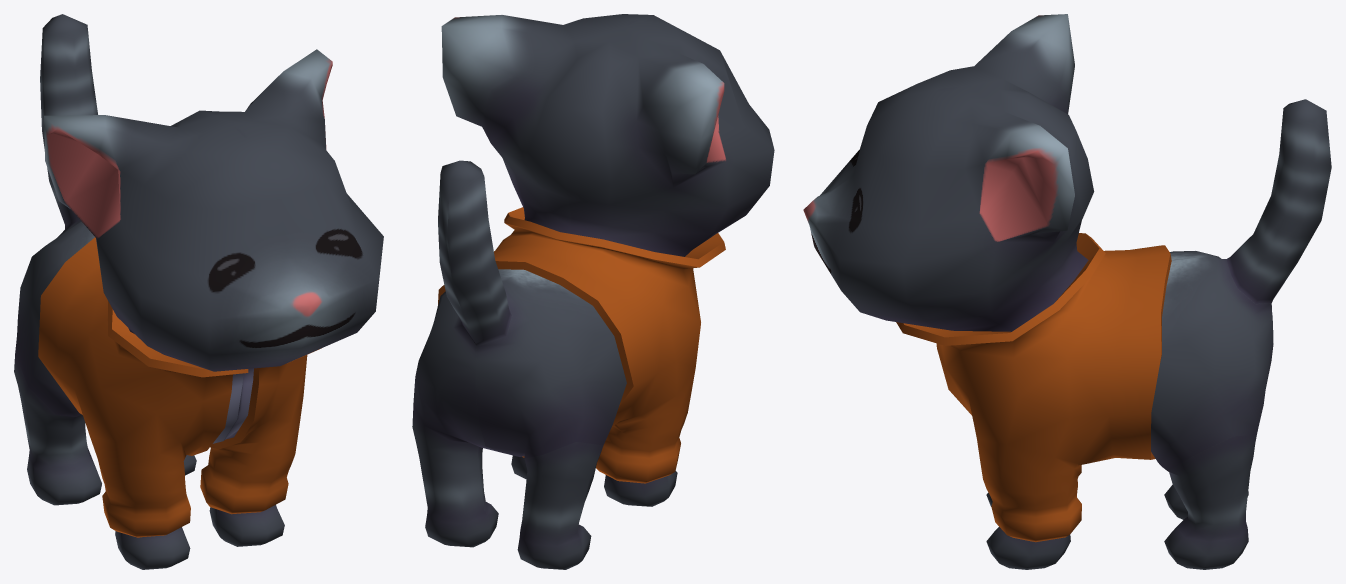
The model's file is Varsity Cat04.fbx.
3 renders of one model, left to right at view 1: azimuth 30°, elevation 25°; view 2: azimuth 150°, elevation 25°; view 3: azimuth 270°, elevation 25°, orthographic. The views are drawn at different scales.
Visible parts, largest first — view 1: Cat_Base003, Varsity_Cat_Jersey; view 2: Cat_Base003, Varsity_Cat_Jersey; view 3: Cat_Base003, Varsity_Cat_Jersey.
Boxes of the visible parts, <box> form: Cat_Base003: <box>14,14,383,569</box>; Varsity_Cat_Jersey: <box>38,237,321,537</box>; Cat_Base003: <box>412,14,774,569</box>; Varsity_Cat_Jersey: <box>438,207,725,483</box>; Cat_Base003: <box>803,14,1331,569</box>; Varsity_Cat_Jersey: <box>896,233,1171,542</box>.
Size of the model in its own units: 1.75 by 2.83 by 2.68.
Materials: 2 (1 with a texture image).
